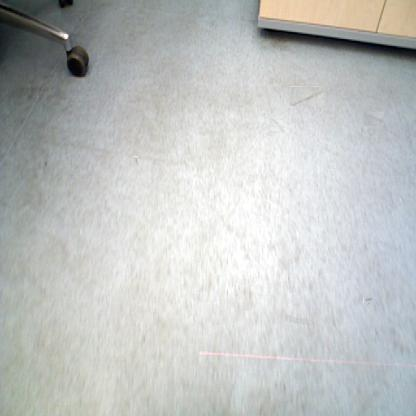mark: (290, 86, 324, 107), (364, 112, 384, 126), (269, 118, 285, 132), (365, 296, 373, 305), (132, 156, 138, 165), (42, 159, 48, 167), (75, 18, 81, 23)
